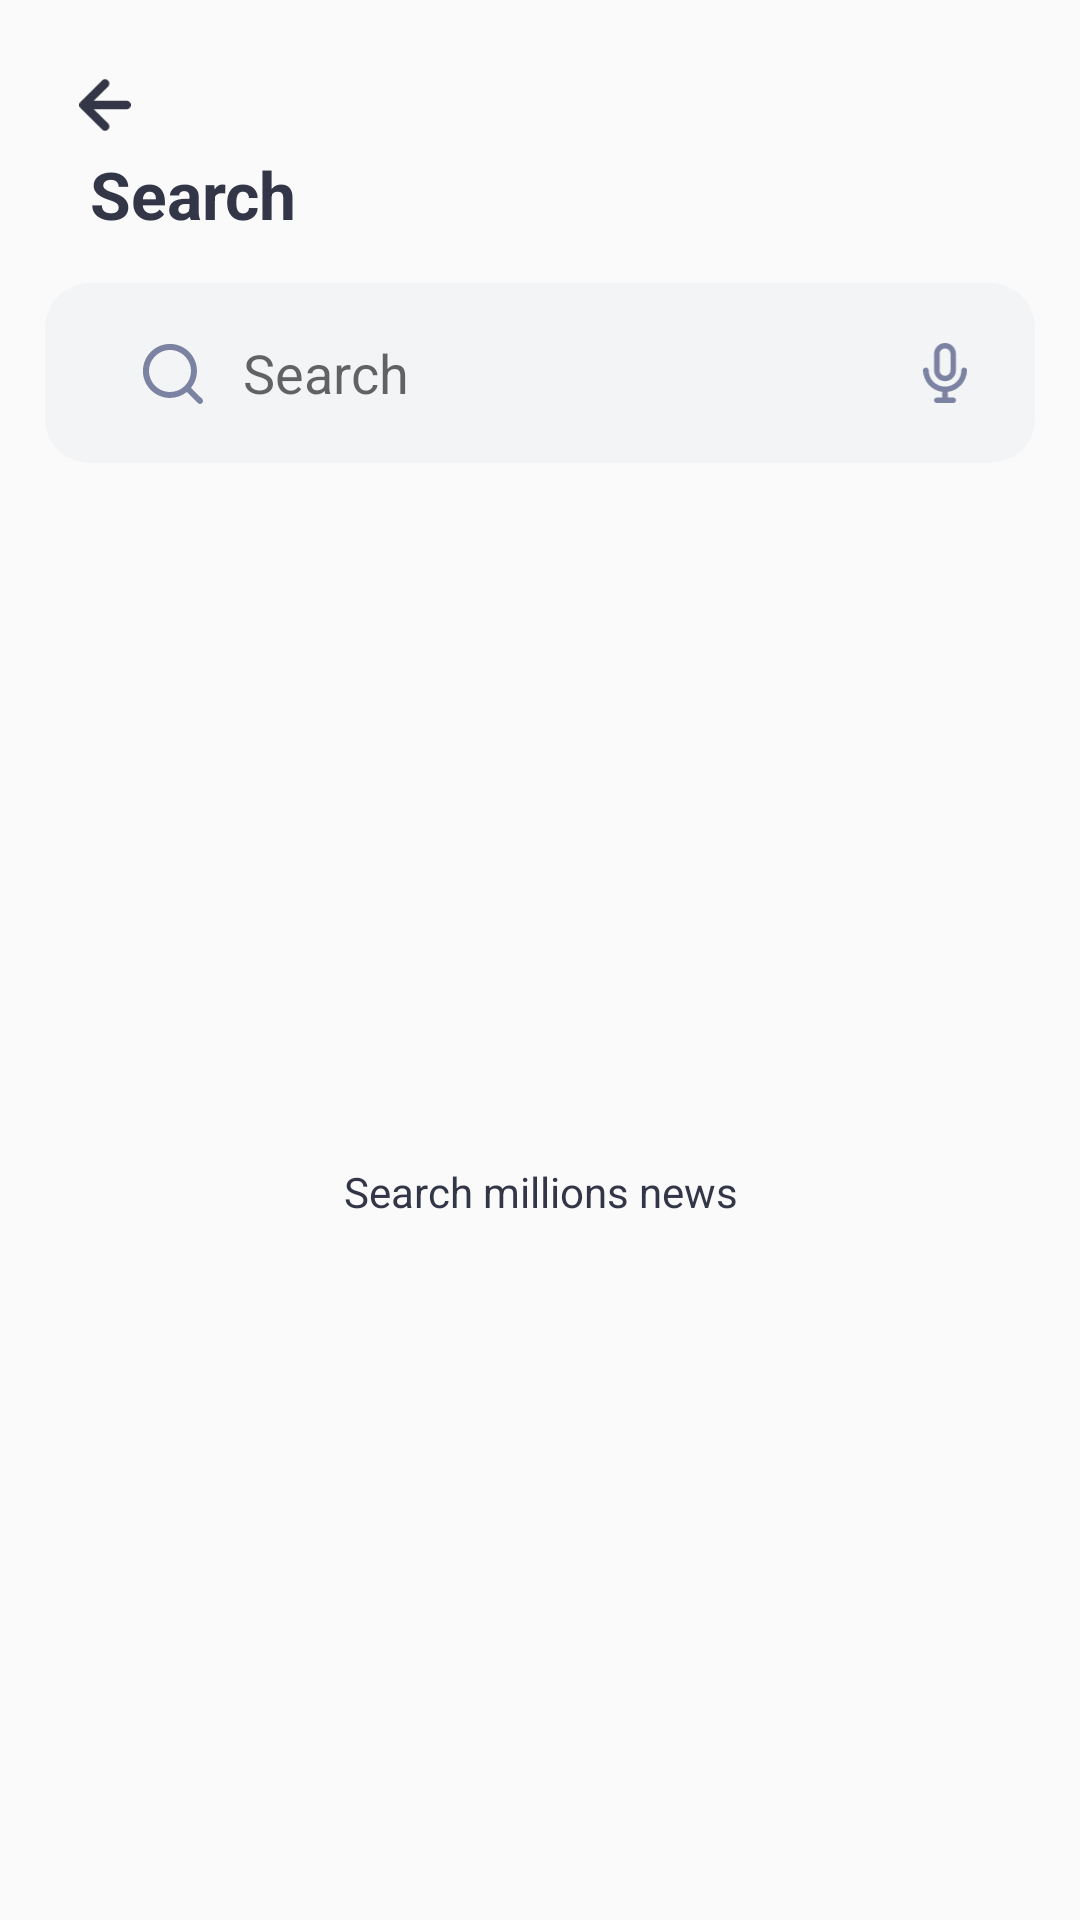

Icon click points for this 1080×1920 phone screenshot, format (x,y):
back: (105,105)
mic: (945,373)
